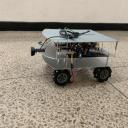cart: (37, 28, 120, 86)
